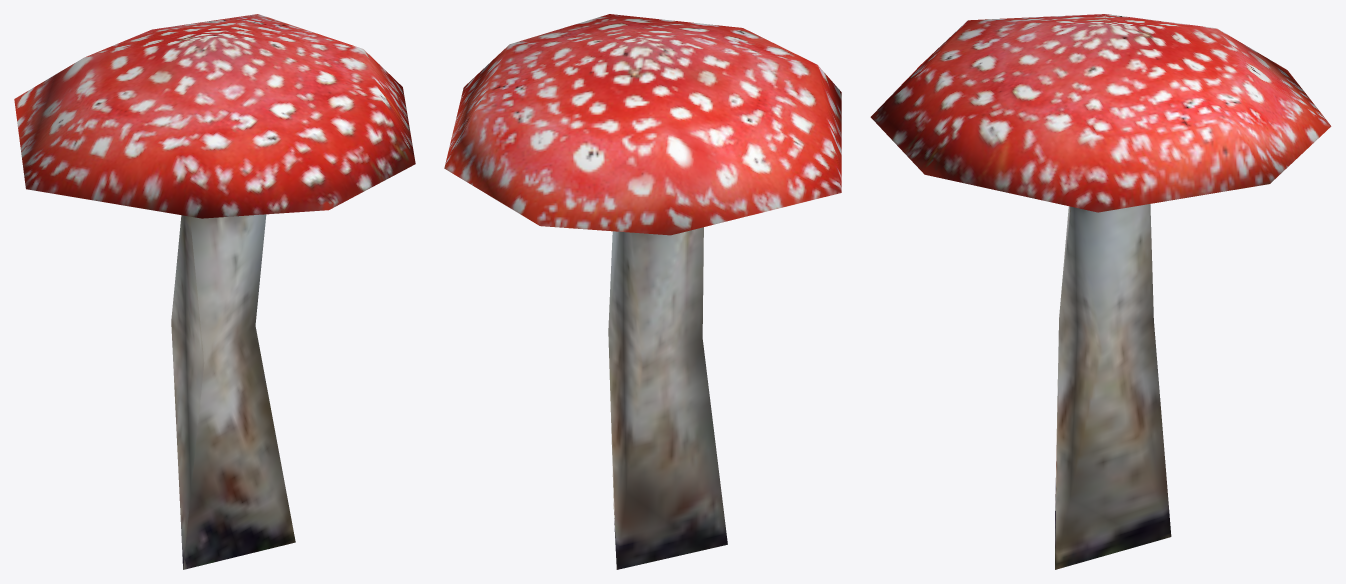
The model's file is Mushroom_04_a.fbx.
3 renders of one model, left to right at view 1: azimuth 30°, elevation 25°; view 2: azimuth 150°, elevation 25°; view 3: azimuth 270°, elevation 25°, orthographic. The views are drawn at different scales.
Visible parts, largest first — view 1: mushroom_04_a; view 2: mushroom_04_a; view 3: mushroom_04_a.
Part boxes in pixels (box(x1,y1,x2,y2)): mushroom_04_a: box(14, 14, 415, 569); mushroom_04_a: box(444, 14, 841, 569); mushroom_04_a: box(870, 14, 1331, 569).
Bounding box in the file's own units: 0.359 × 0.4573 × 0.3701.
